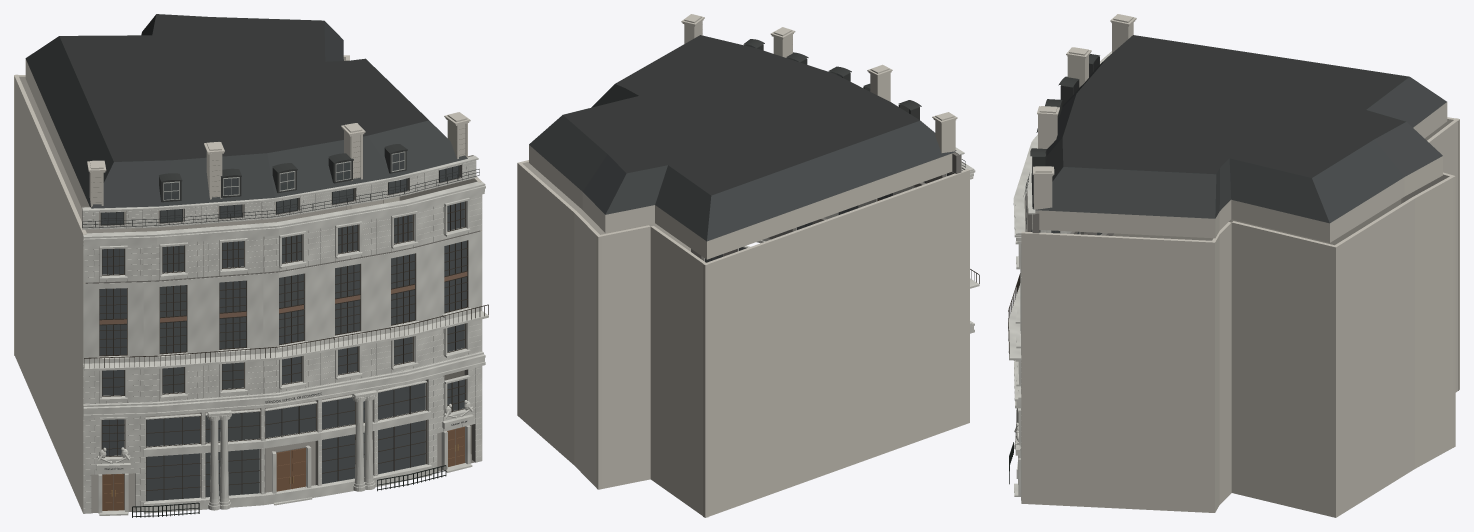
File: clm-exterior-eb1031cb6a6b.glb
The picture shows the model from 3 angles, left to right: view 1: azimuth 30°, elevation 25°; view 2: azimuth 150°, elevation 25°; view 3: azimuth 270°, elevation 25°; orthographic projection. The views are drawn at different scales.
Parts seen in each view (by area): view 1: CLM.001; view 2: CLM.001; view 3: CLM.001.
Part boxes in pixels (left/top/right/bottom): CLM.001: left=14, top=14, right=488, bottom=517; CLM.001: left=517, top=14, right=979, bottom=517; CLM.001: left=1008, top=14, right=1459, bottom=517.
Size of the model in its own units: 33.24 by 28.81 by 34.59.
29 materials, 6 textured.
